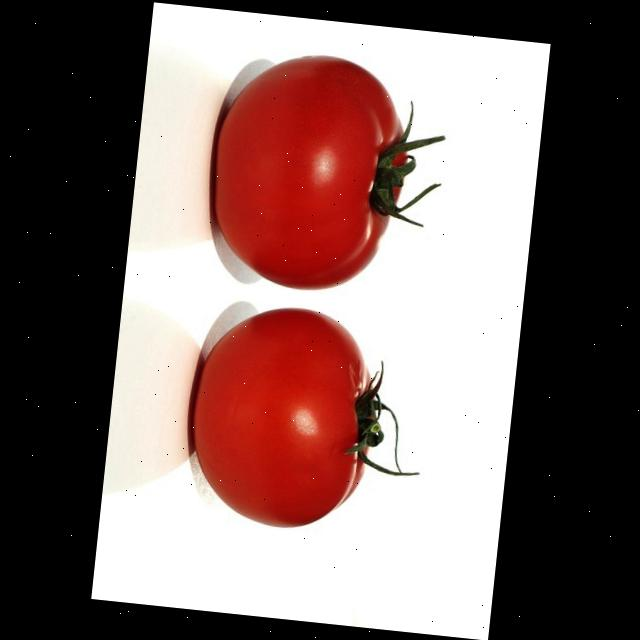tomato: (187, 32, 440, 300), (170, 291, 412, 548)
